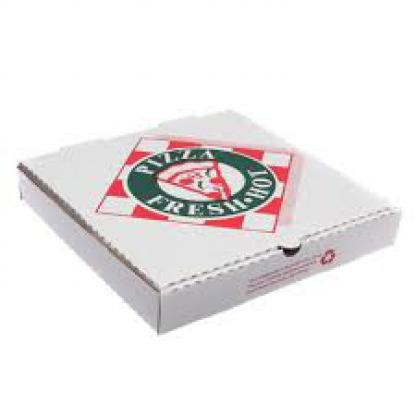CARDBOARD: (15, 105, 397, 333)
